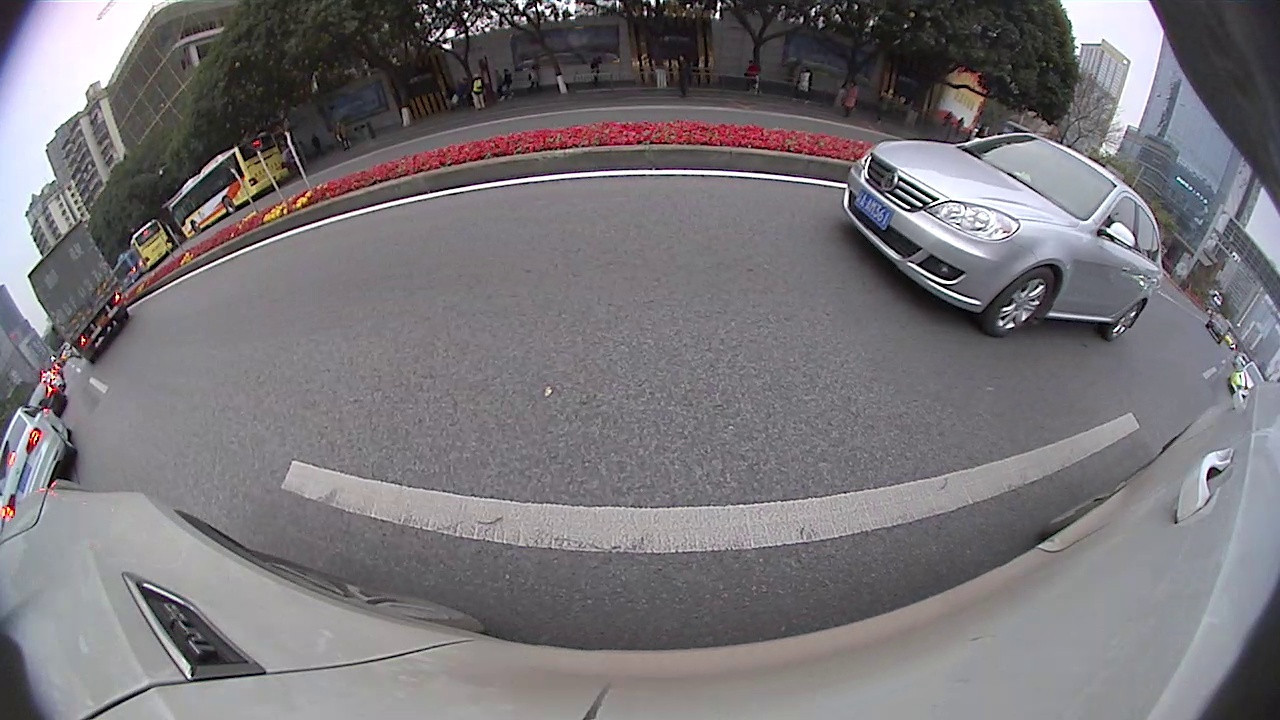bus: (163, 130, 294, 243), (128, 218, 176, 276)
car: (841, 129, 1168, 342), (1, 409, 78, 523), (26, 382, 70, 419), (1228, 362, 1270, 397), (1207, 312, 1232, 342)
front: (976, 262, 1062, 339)
rear: (1104, 298, 1146, 339), (53, 430, 77, 453), (219, 196, 238, 217)
truck: (26, 218, 132, 367)
